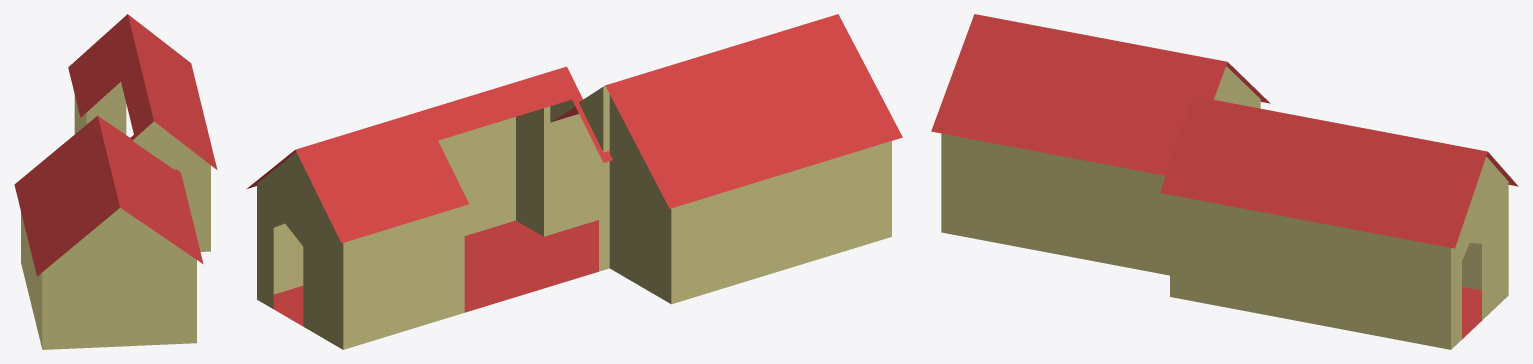
The picture shows the model from 3 angles, left to right: view 1: azimuth 30°, elevation 25°; view 2: azimuth 150°, elevation 25°; view 3: azimuth 270°, elevation 25°; orthographic projection. The views are drawn at different scales.
Bounding box in the file's own units: 31.27 × 38.46 × 12.93.
